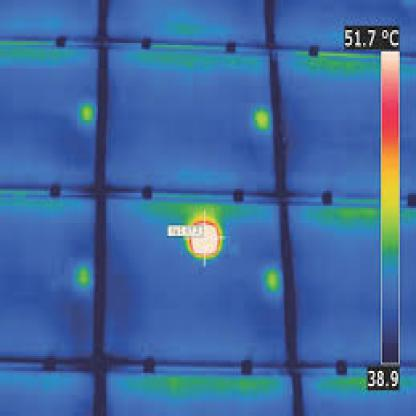Defects: (254, 105, 270, 135)
